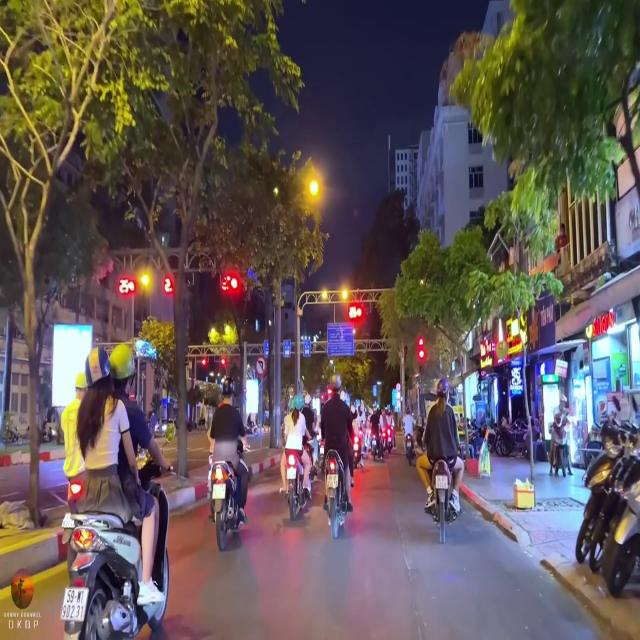bien_trang: (60, 584, 88, 620), (434, 475, 448, 490)
